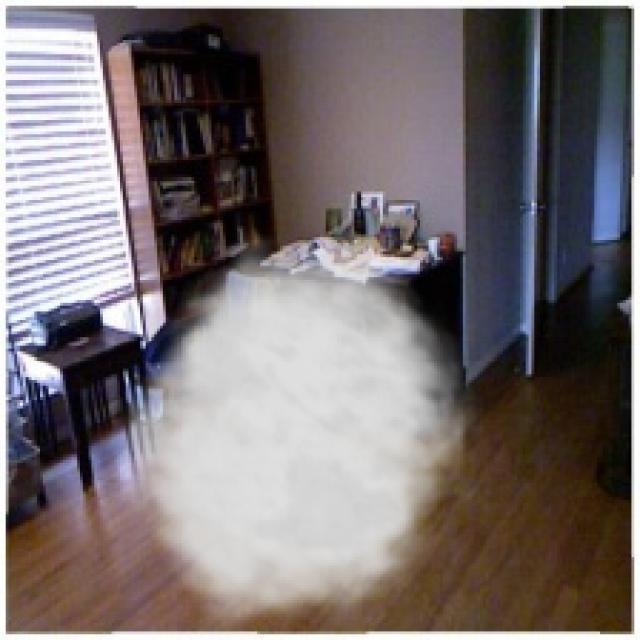Smoke: (111, 234, 488, 637)
